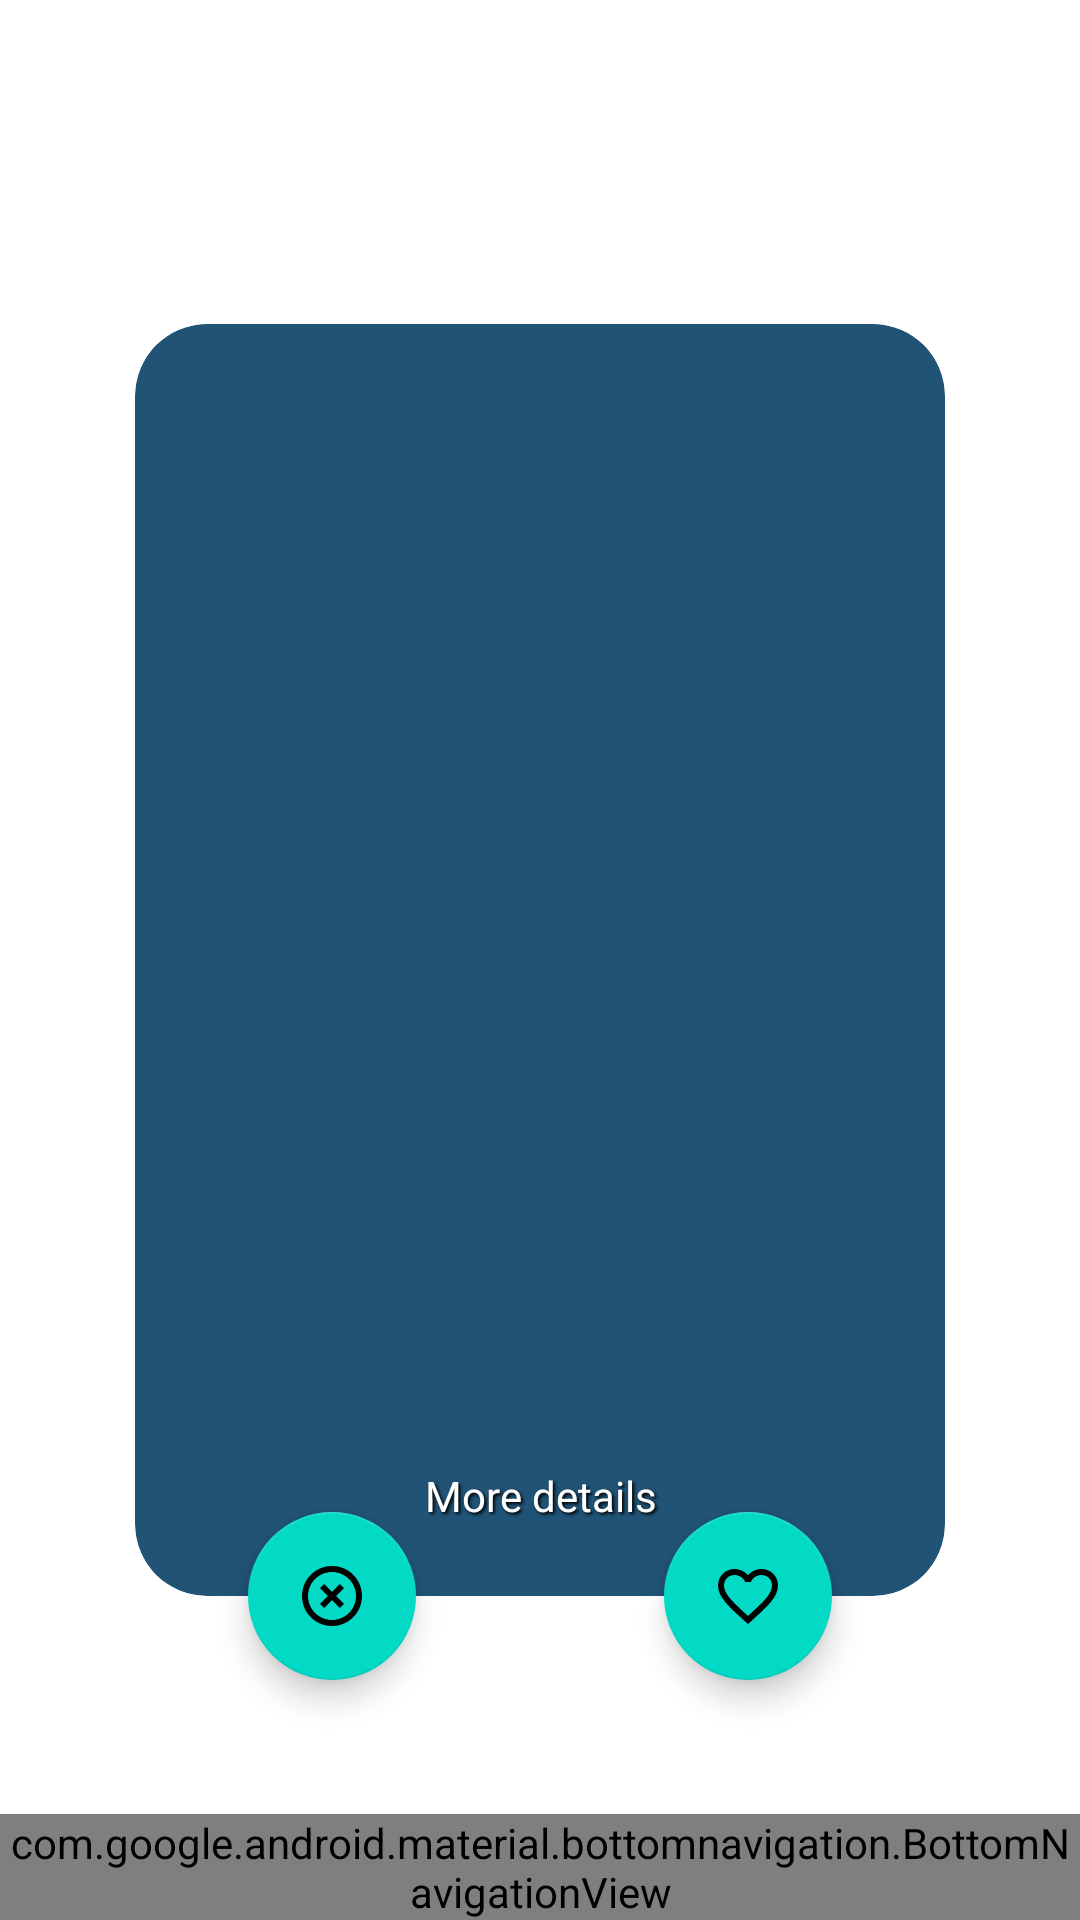

Point at icon controls on the screen. Image size 1080 × 1920, points as point (x, y).
favorite border: point (748, 1596)
highlight off: point (332, 1596)
